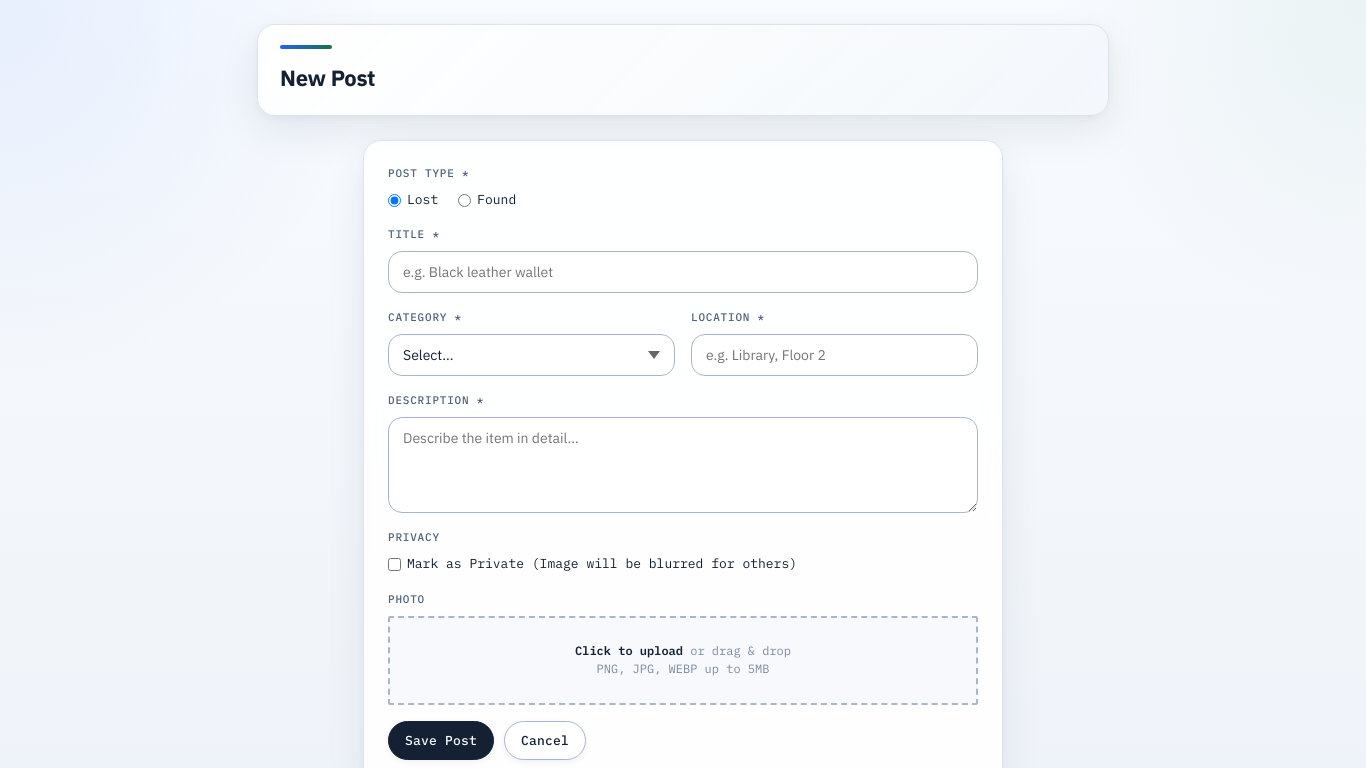
Scenario: PostFormPage component › shows validation errors for missing required fields
Click the button "Save Post": (441, 740) [388, 721, 494, 760]
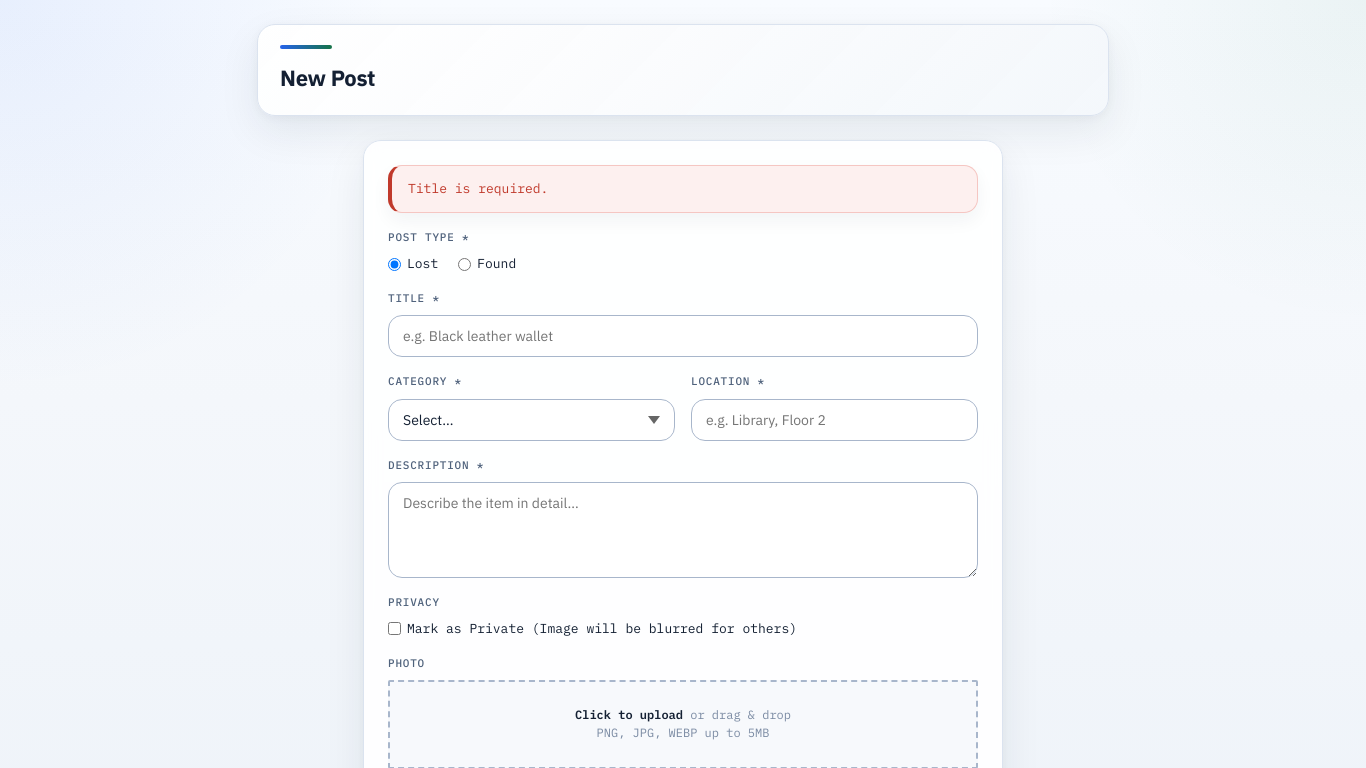
Expected: the text "Title is required." is shown, [388, 165, 978, 213]
